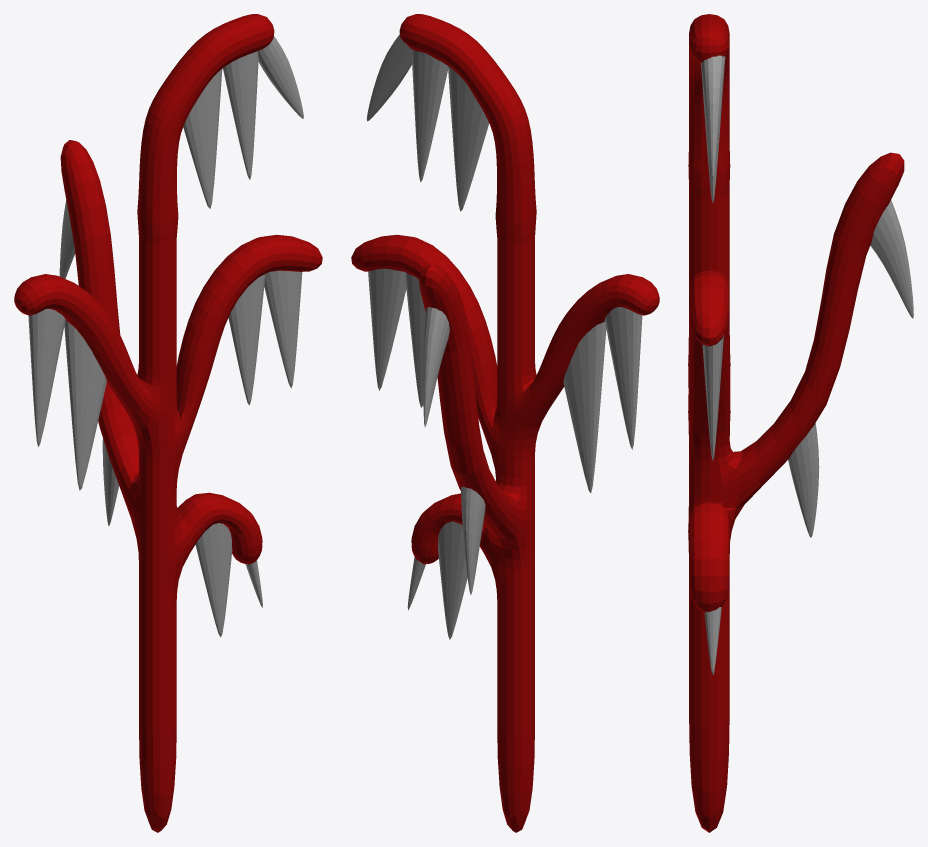
The model's file is mars-tree-02.obj.
3 renders of one model, left to right at view 1: azimuth 30°, elevation 25°; view 2: azimuth 150°, elevation 25°; view 3: azimuth 270°, elevation 25°, orthographic. The views are drawn at different scales.
Visible parts, largest first — view 1: Tree.002_Cube.007; view 2: Tree.002_Cube.007; view 3: Tree.002_Cube.007.
Part boxes in pixels (left/top/right/bottom): Tree.002_Cube.007: left=14, top=14, right=322, bottom=832; Tree.002_Cube.007: left=351, top=14, right=659, bottom=832; Tree.002_Cube.007: left=688, top=14, right=913, bottom=832.
Size of the model in its own units: 1.76 by 4.37 by 1.04.
